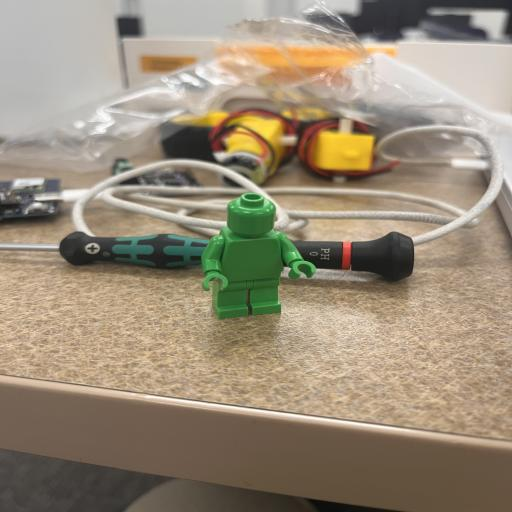Lego-Minifig: (202, 193, 315, 319)
